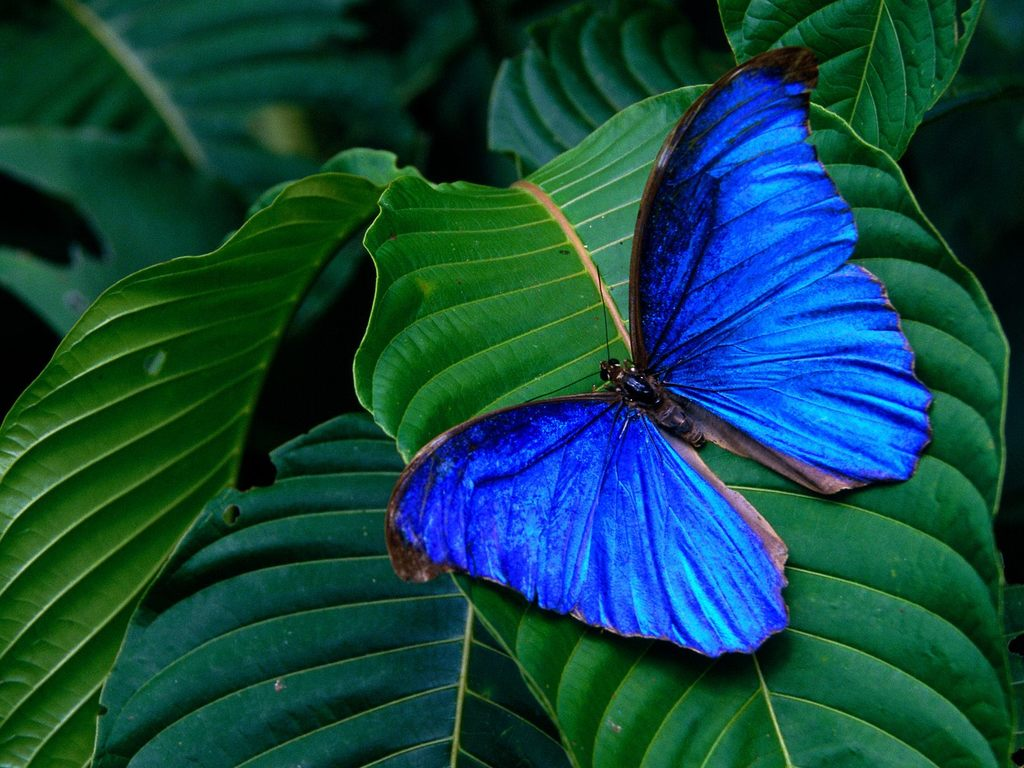Butterfly: (382, 73, 919, 666)
